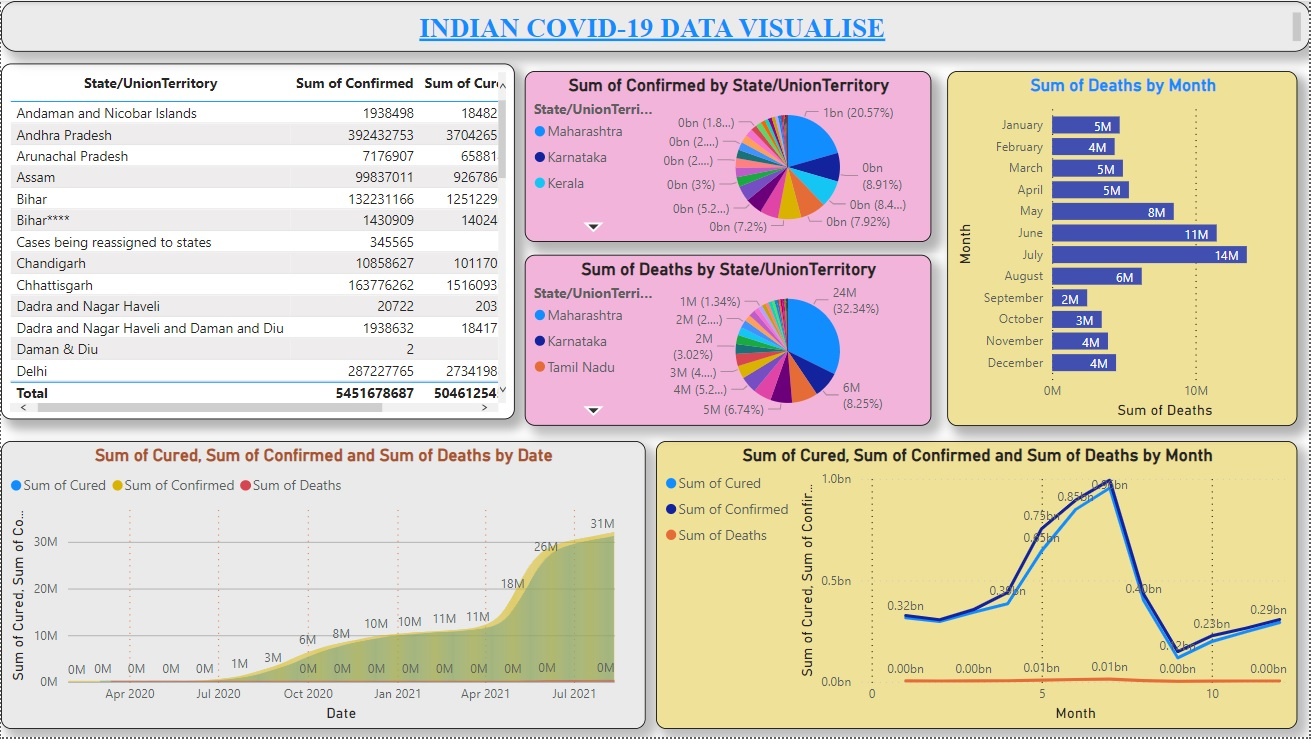

What the dashboard file says about the page in this screenshot:
{"tool":"powerbi","page":{"name":"Page 1","canvas":[1280,720],"ordinal":0},"visuals":[{"type":"tableEx","fields":{"Values":["covid_19_india.State/UnionTerritory","Sum(covid_19_india.Confirmed)","Sum(covid_19_india.Cured)","Sum(covid_19_india.Deaths)"]},"box":[0,61.1,502.4,348.4],"z":0},{"type":"textbox","box":[0,0,1280.3,49.4],"z":1000},{"type":"clusteredColumnChart","fields":{"Category":["covid_19_india.Date"],"Y":["Sum(covid_19_india.Cured)","Sum(covid_19_india.Confirmed)","Sum(covid_19_india.Deaths)"]},"box":[0,430,630,281.2],"z":2000},{"type":"pieChart","fields":{"Category":["covid_19_india.State/UnionTerritory"],"Y":["Sum(covid_19_india.Confirmed)"]},"box":[512.5,68.8,397.5,167.5],"z":3000},{"type":"lineChart","fields":{"Y":["Sum(covid_19_india.Cured)","Sum(covid_19_india.Confirmed)","Sum(covid_19_india.Deaths)"],"Category":["covid_19_india.Month"]},"box":[640,430,627.5,281.2],"z":4000},{"type":"pieChart","fields":{"Category":["covid_19_india.State/UnionTerritory"],"Y":["Sum(covid_19_india.Deaths)"]},"box":[512.5,248.8,397.5,167.5],"z":5000},{"type":"clusteredBarChart","fields":{"Category":["covid_19_india.Date.Variation.Date Hierarchy.Month"],"Y":["Sum(covid_19_india.Deaths)"]},"box":[925,68.8,342.5,347.5],"z":6000}]}

Visuals, with their boxes in screenshot pixels (x1, y1, x2, y2), scaled from the page's 1280x720 canvas onto the 1311x743 screenshot:
tableEx - covid_19_india.State/UnionTerritory x Sum(covid_19_india.Confirmed): (left=0, top=63, right=515, bottom=423)
textbox: (left=0, top=0, right=1310, bottom=51)
clusteredColumnChart - covid_19_india.Date x Sum(covid_19_india.Cured): (left=0, top=444, right=645, bottom=734)
pieChart - covid_19_india.State/UnionTerritory x Sum(covid_19_india.Confirmed): (left=525, top=71, right=932, bottom=244)
lineChart - Sum(covid_19_india.Cured) x Sum(covid_19_india.Confirmed): (left=656, top=444, right=1298, bottom=734)
pieChart - covid_19_india.State/UnionTerritory x Sum(covid_19_india.Deaths): (left=525, top=257, right=932, bottom=430)
clusteredBarChart - covid_19_india.Date.Variation.Date Hierarchy.Month x Sum(covid_19_india.Deaths): (left=947, top=71, right=1298, bottom=430)
